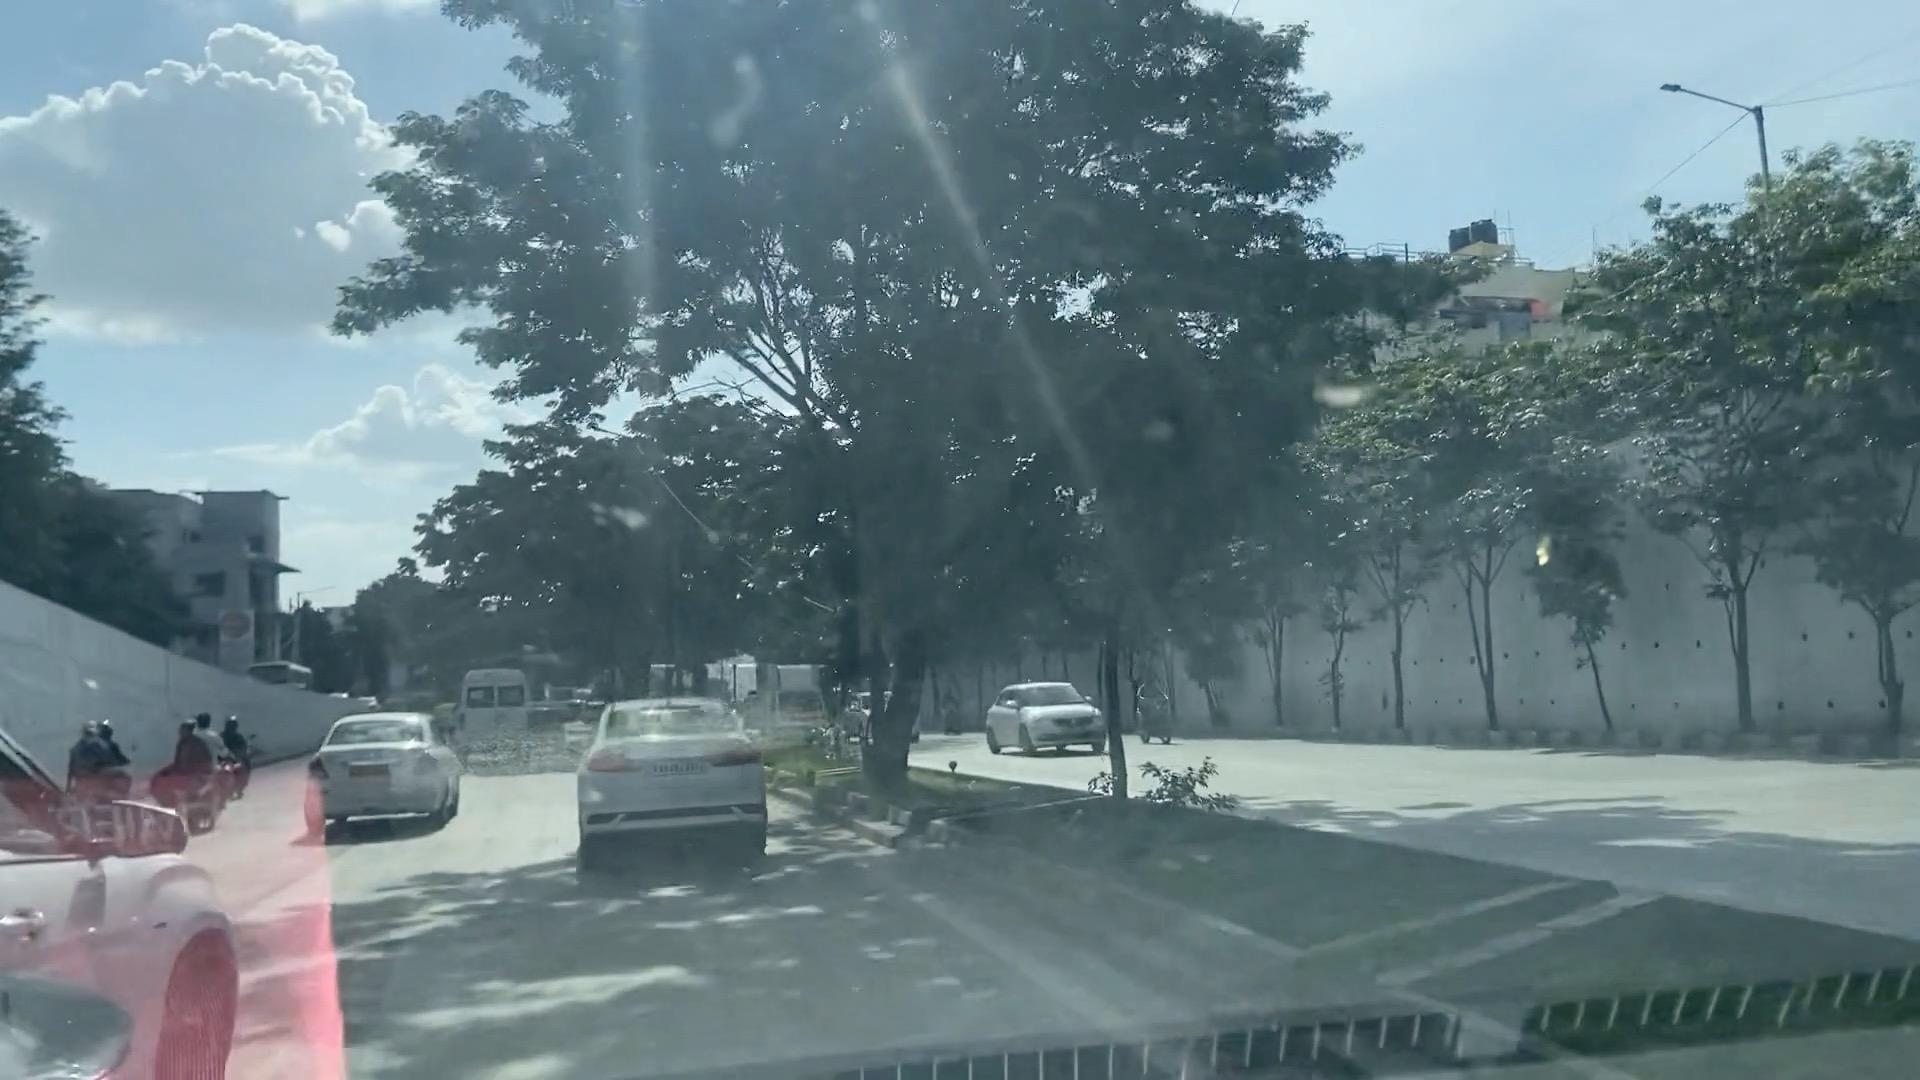LMV: (580, 695, 768, 855), (310, 710, 455, 842)
